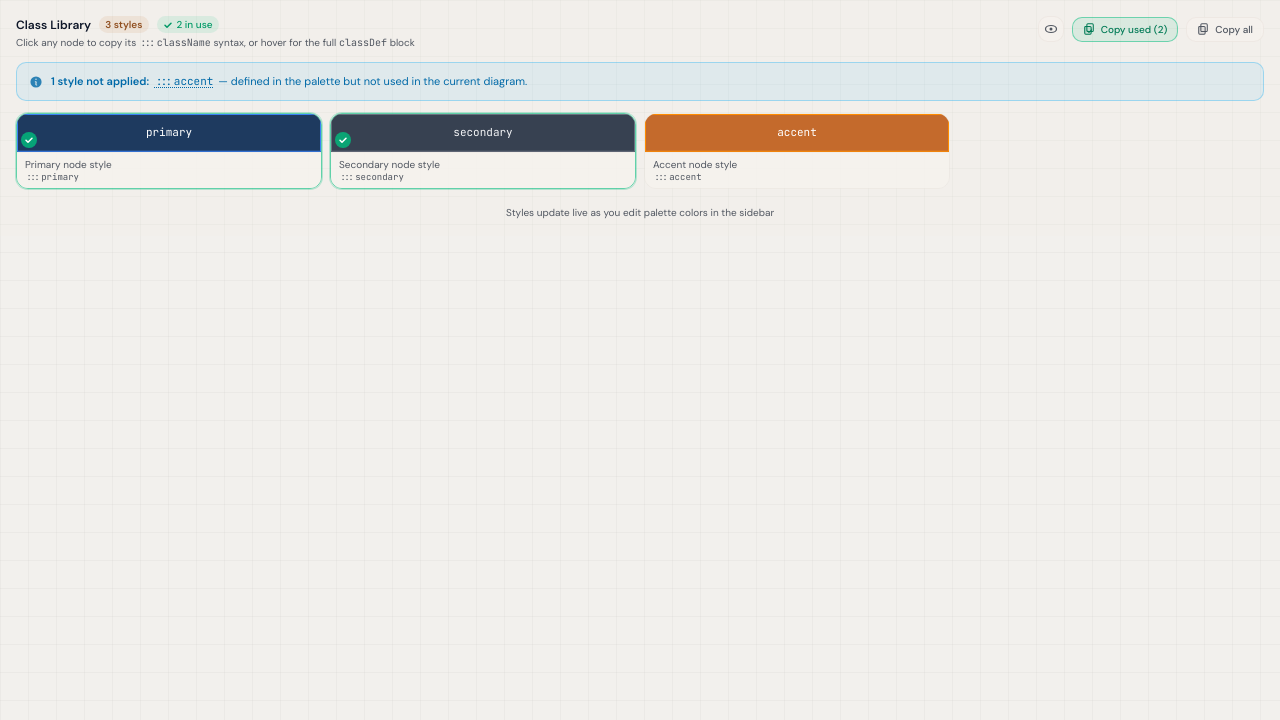
Test case: ClassBrowser preview — header label changes with mode › switching from 'all' to 'used' shows the '(used only)' label
Click the button named "Preview all classDefs" at (1051, 29), box [1038,16,1064,42]
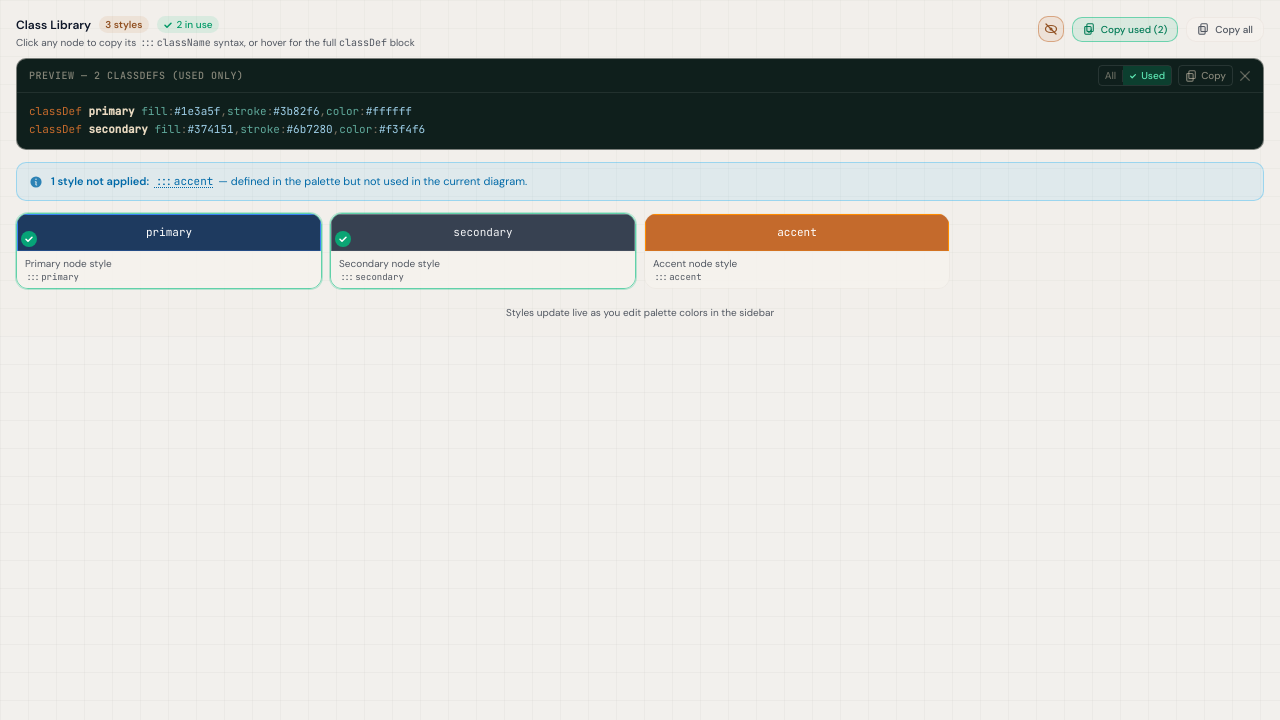
Click the button titled "Show all classDefs" at (1110, 76), box [1099,66,1122,85]
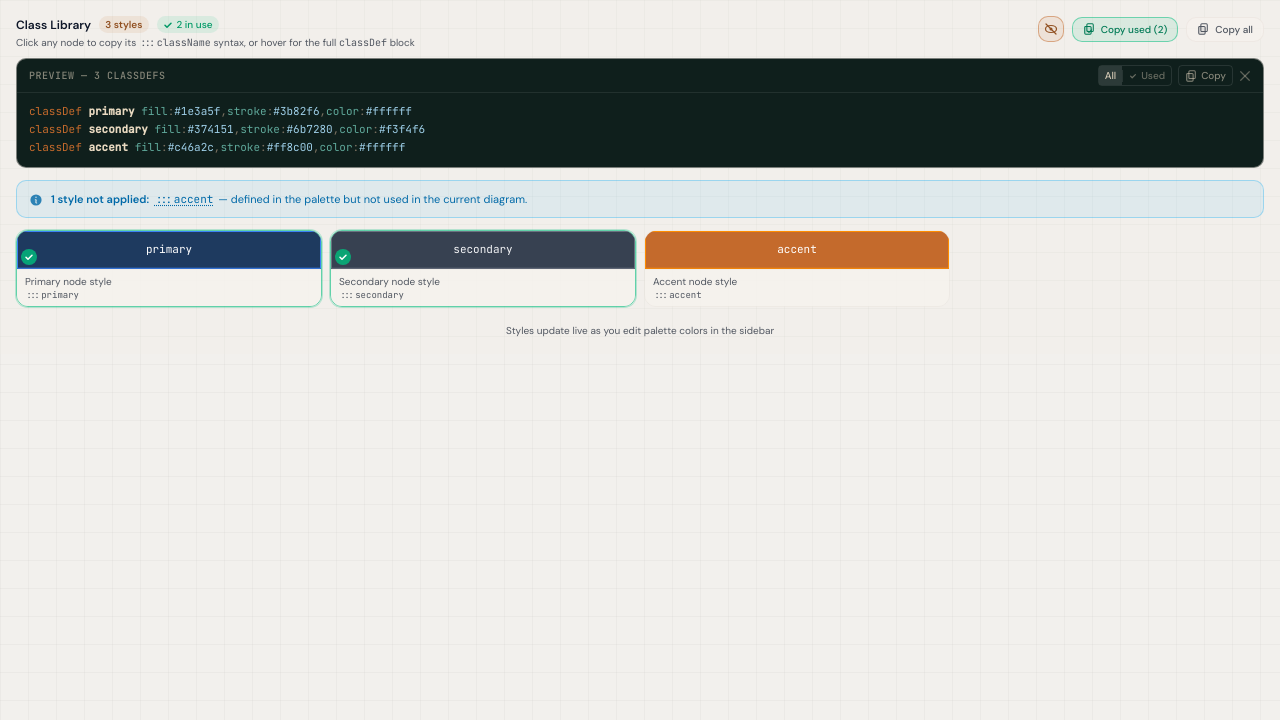
Expected: the text "(used only)" is gone
Click the button "Used" at (1147, 76), box [1123,66,1171,85]
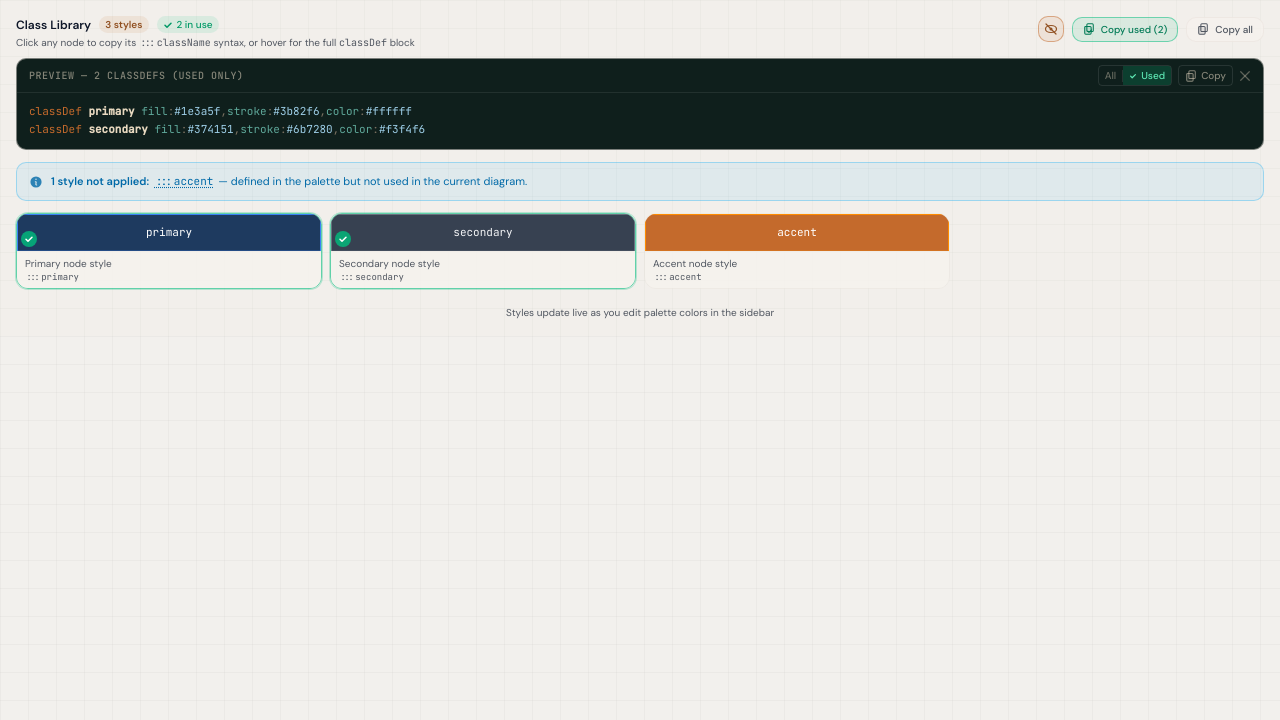
Expected: the text "(used only)" is shown, [94,69,244,82]
